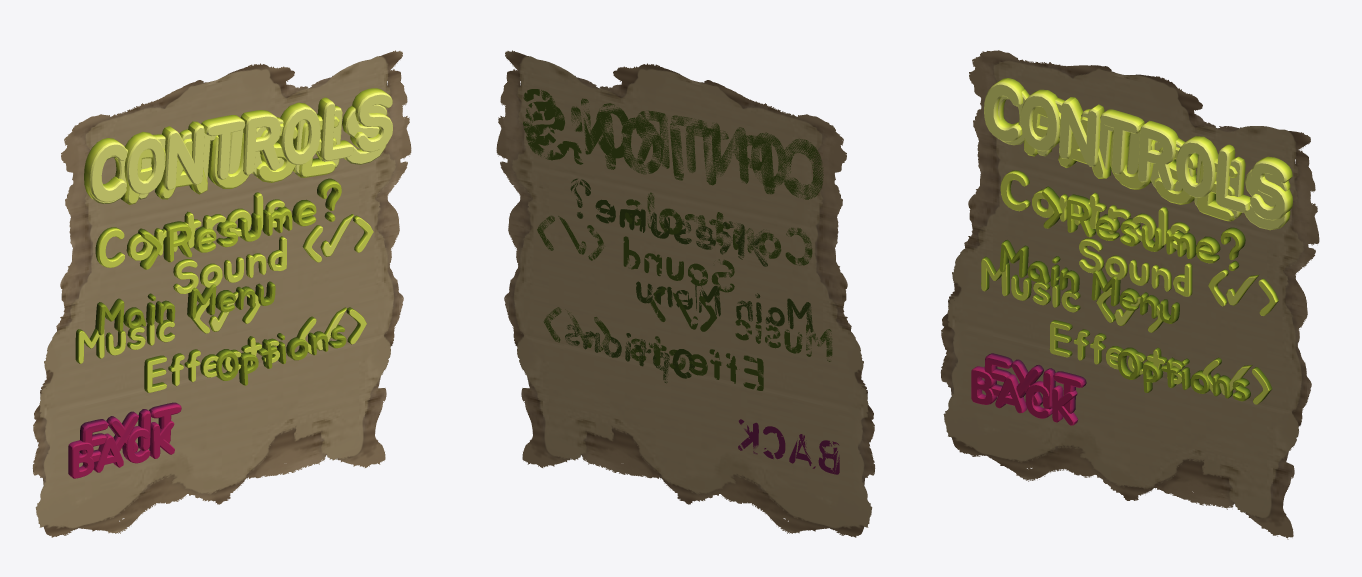
The model's file is PauseMenu.fbx.
3 renders of one model, left to right at view 1: azimuth 30°, elevation 25°; view 2: azimuth 150°, elevation 25°; view 3: azimuth 330°, elevation 25°, orthographic.
Visible parts, largest first — view 1: Menu_Cardbard, Controls (×2), Options (×2), Resume, Pause, Main_Menu, Sound_Master, Sound_Effects, Back, Exit, Sound_Music; view 2: Menu_Cardbard, Controls (×2), Options (×2), Resume, Sound_Effects, Main_Menu, Sound_Master, Sound_Music, Back; view 3: Menu_Cardbard, Controls (×2), Options (×2), Resume, Pause, Main_Menu, Sound_Master, Sound_Effects, Back, Exit, Sound_Music.
Boxes of the visible parts, bbox=[...] form: Menu_Cardbard: bbox=[32, 50, 411, 537]; Controls (×2): bbox=[84, 88, 392, 267]; Options (×2): bbox=[84, 104, 387, 385]; Resume: bbox=[138, 178, 341, 269]; Pause: bbox=[121, 113, 339, 204]; Main_Menu: bbox=[95, 281, 275, 335]; Sound_Master: bbox=[173, 215, 373, 293]; Sound_Effects: bbox=[144, 307, 366, 392]; Back: bbox=[68, 420, 174, 478]; Exit: bbox=[79, 402, 181, 463]; Sound_Music: bbox=[75, 287, 260, 363]; Menu_Cardbard: bbox=[496, 50, 875, 537]; Controls (×2): bbox=[523, 89, 823, 265]; Options (×2): bbox=[526, 101, 823, 383]; Resume: bbox=[570, 178, 769, 266]; Sound_Effects: bbox=[543, 307, 763, 390]; Main_Menu: bbox=[636, 281, 812, 332]; Sound_Master: bbox=[537, 215, 734, 292]; Sound_Music: bbox=[650, 287, 832, 361]; Back: bbox=[738, 419, 839, 474]; Menu_Cardbard: bbox=[940, 50, 1319, 539]; Controls (×2): bbox=[984, 78, 1292, 250]; Options (×2): bbox=[998, 89, 1290, 401]; Resume: bbox=[1042, 186, 1245, 270]; Pause: bbox=[1024, 107, 1237, 221]; Main_Menu: bbox=[999, 240, 1179, 323]; Sound_Master: bbox=[1079, 238, 1278, 315]; Sound_Effects: bbox=[1049, 320, 1272, 404]; Back: bbox=[971, 366, 1077, 425]; Exit: bbox=[984, 353, 1086, 413]; Sound_Music: bbox=[981, 256, 1163, 332].
Bounding box in the file's own units: 100 × 100 × 3.29.
